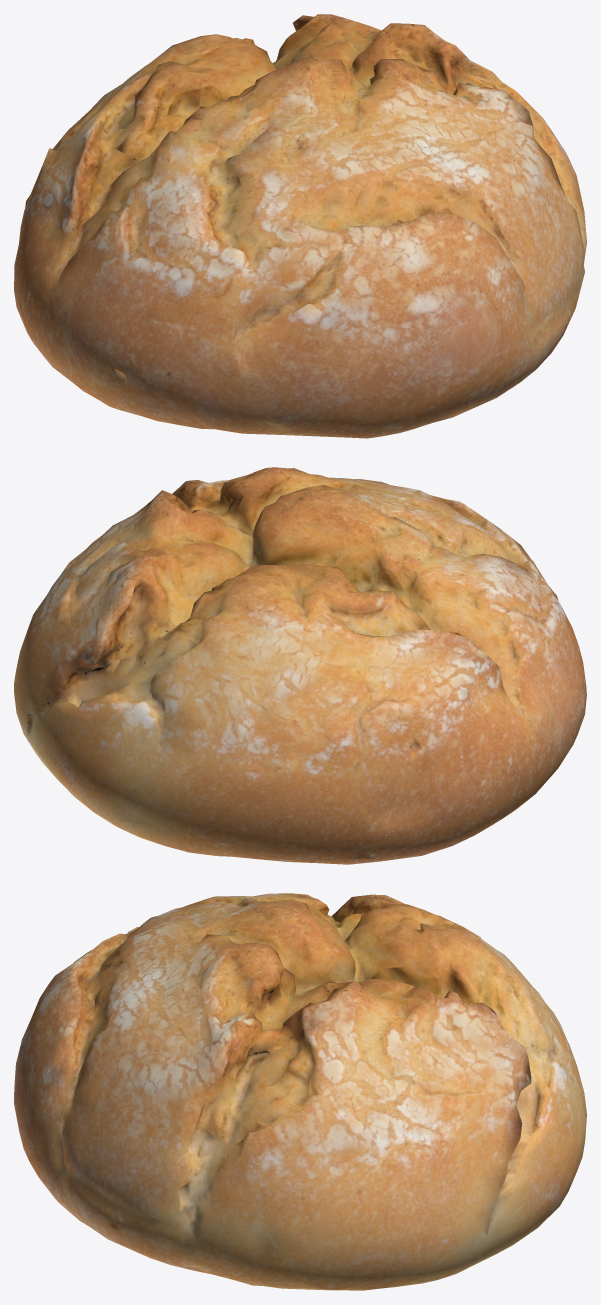
File: 3DBread006_SQ-2K-PNG.obj
3 views of the same model, one above another, from view 1: azimuth 30°, elevation 25°; view 2: azimuth 150°, elevation 25°; view 3: azimuth 270°, elevation 25° (orthographic). The views are drawn at different scales.
Parts seen in each view (by area): view 1: 3DBread006_SQ-2K-PNG; view 2: 3DBread006_SQ-2K-PNG; view 3: 3DBread006_SQ-2K-PNG.
Boxes of the visible parts, <box> form: 3DBread006_SQ-2K-PNG: <box>14,14,586,438</box>; 3DBread006_SQ-2K-PNG: <box>14,467,586,864</box>; 3DBread006_SQ-2K-PNG: <box>14,893,586,1290</box>.
Bounding box in the file's own units: 0.1096 × 0.0603 × 0.1069.
Materials: 1 (1 with a texture image).
